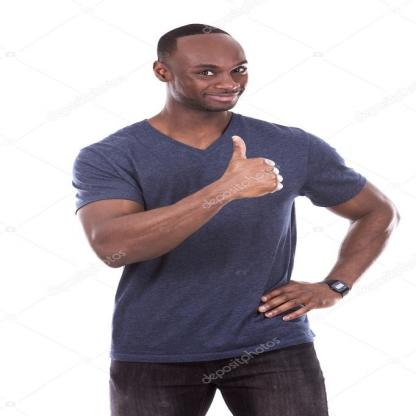Thumbs-Up: (211, 135, 280, 200)
